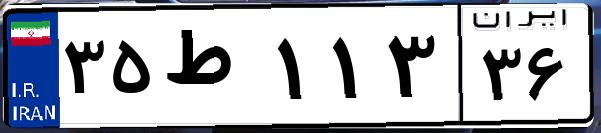1: (270, 28, 330, 110), (330, 28, 385, 110)
3: (385, 28, 445, 110), (57, 26, 110, 100), (475, 38, 525, 113)
5: (110, 28, 158, 98)
6: (525, 38, 570, 115)
ط: (158, 20, 270, 120)
